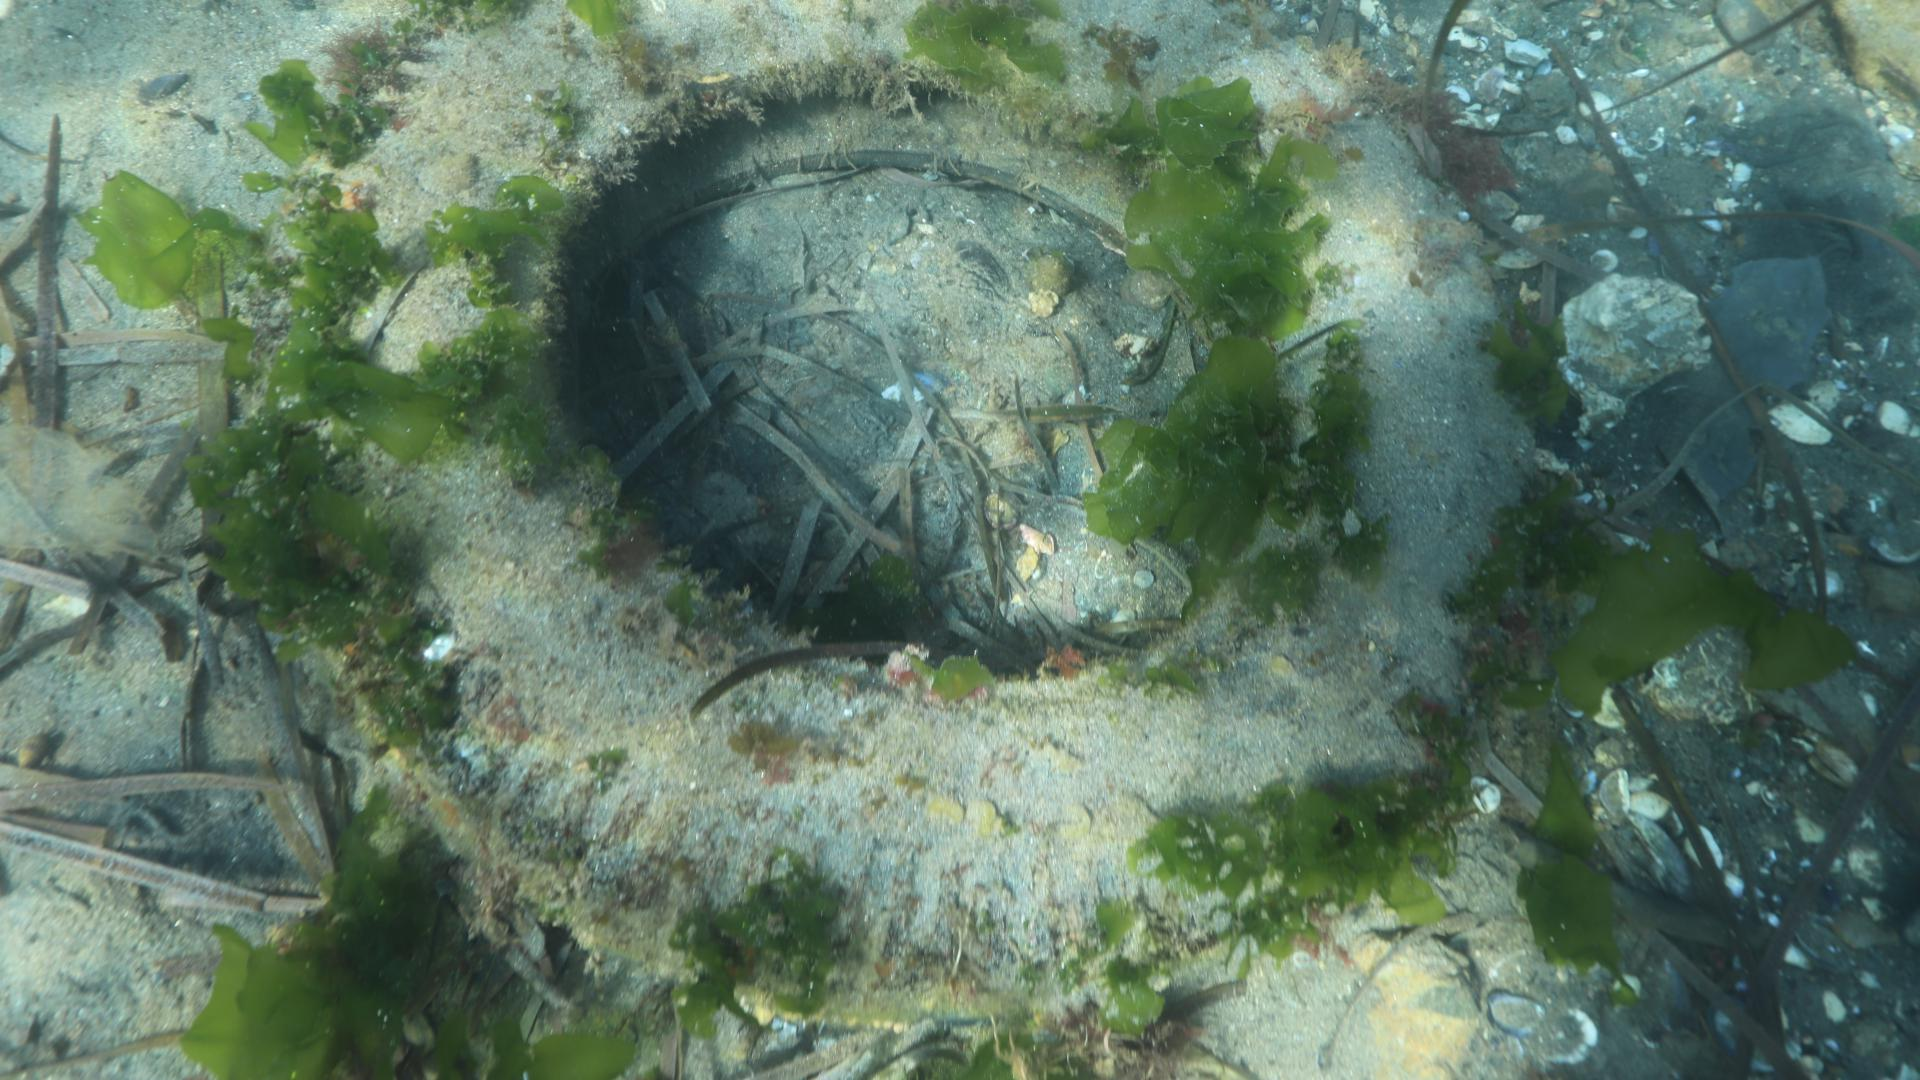tire: (258, 0, 1516, 1026)
